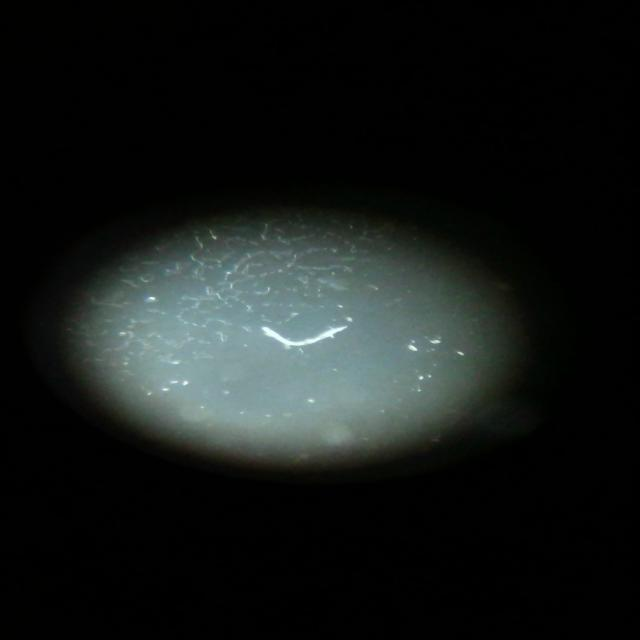psudo-nitzschia: (246, 312, 344, 359)
